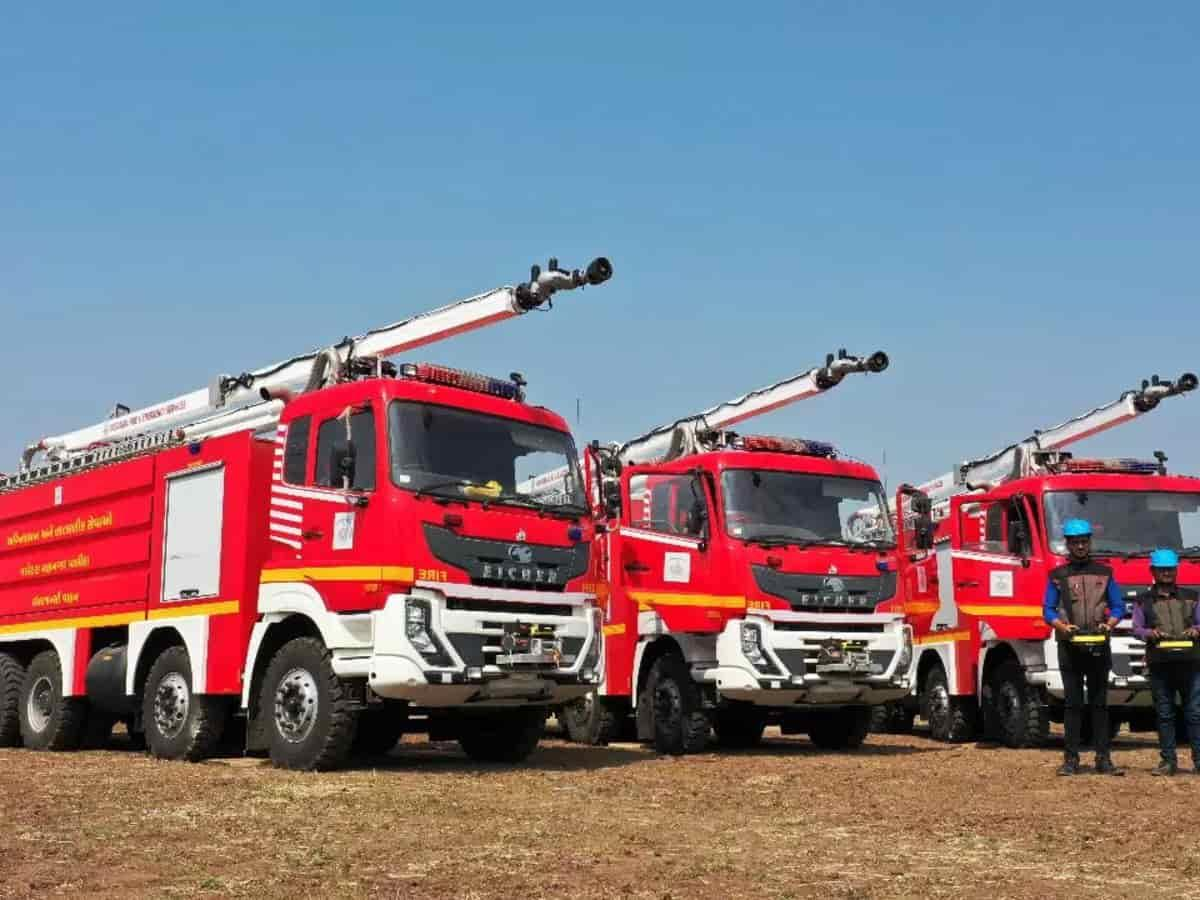Fire-engine: (15, 395, 632, 739), (627, 429, 956, 728)
